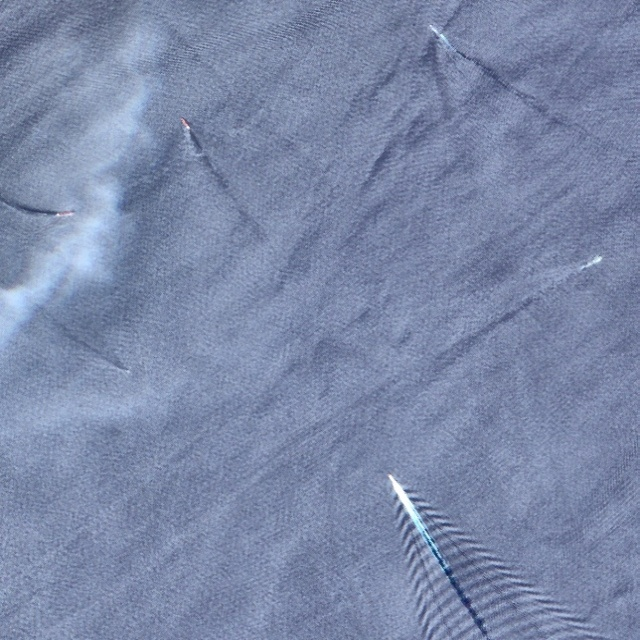wake: (344, 437, 526, 635)
